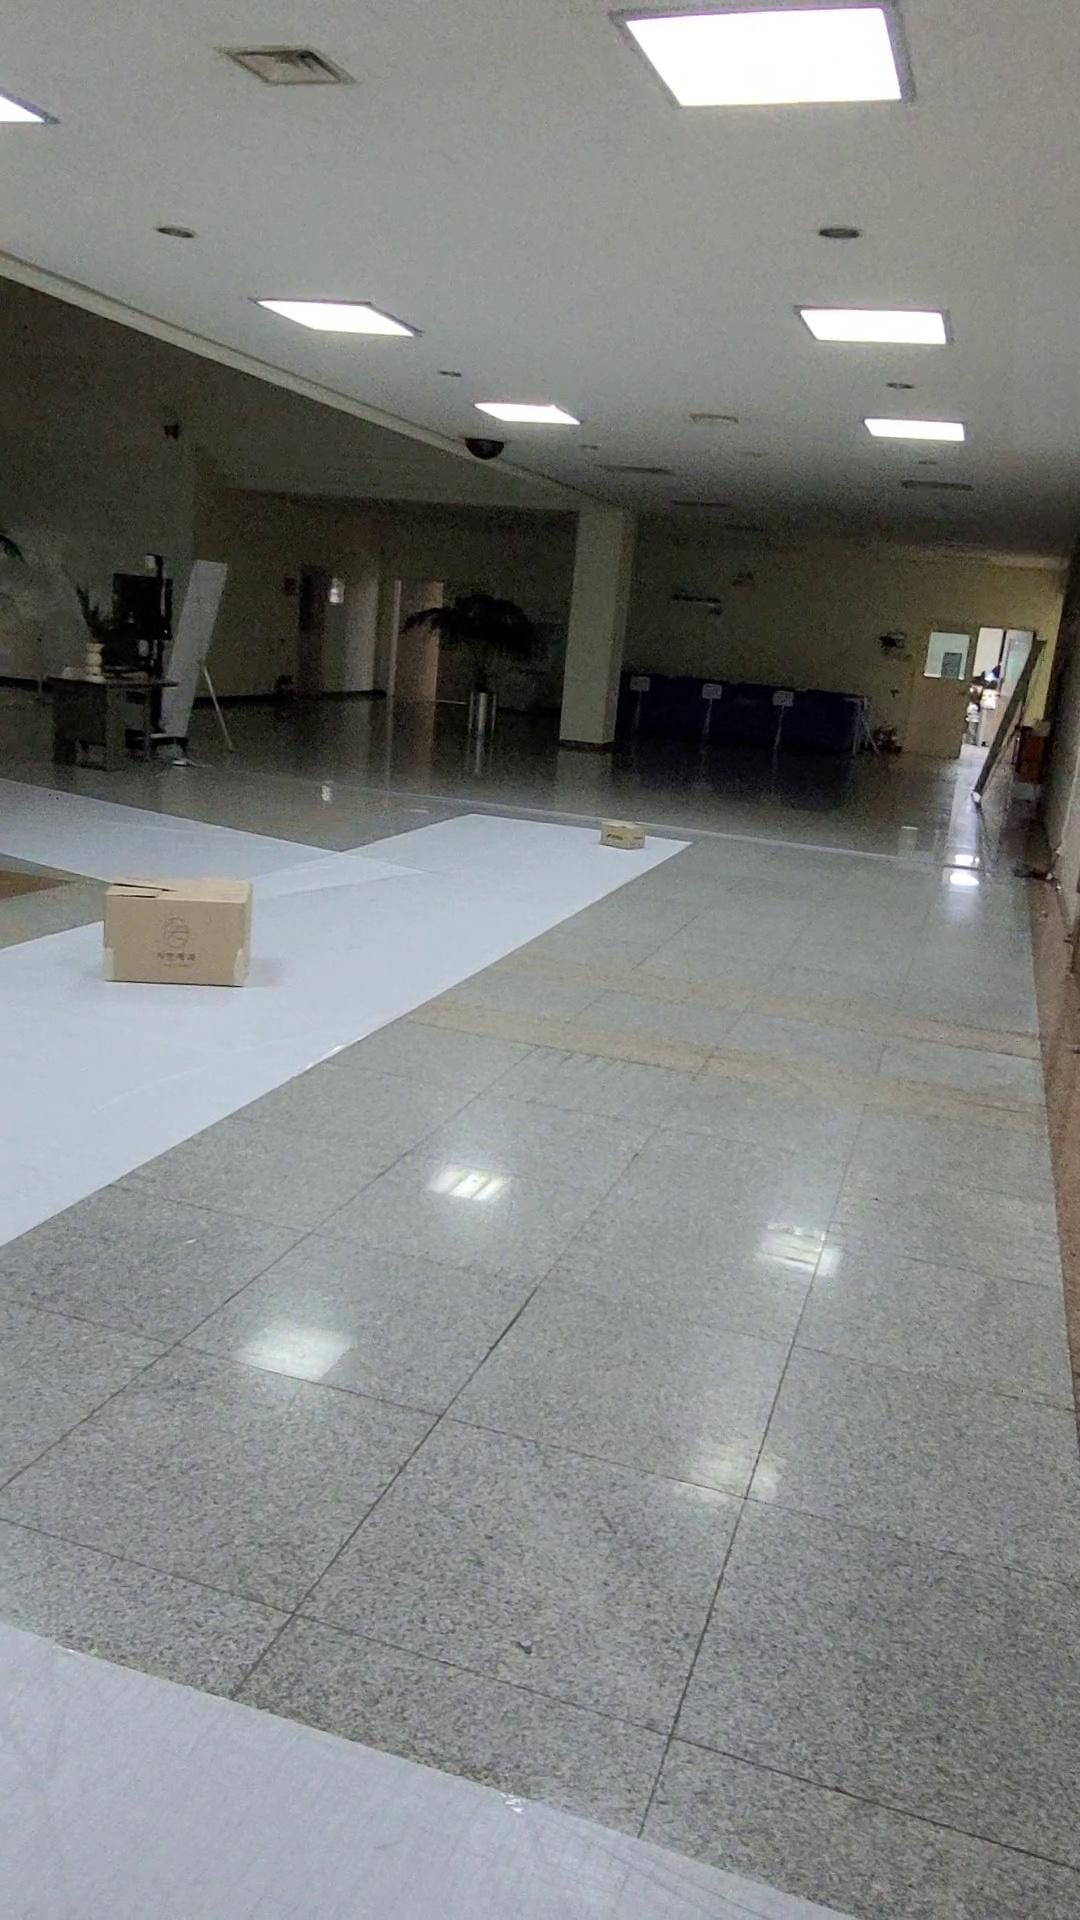Box: (86, 840, 298, 1027), (556, 789, 682, 887)
